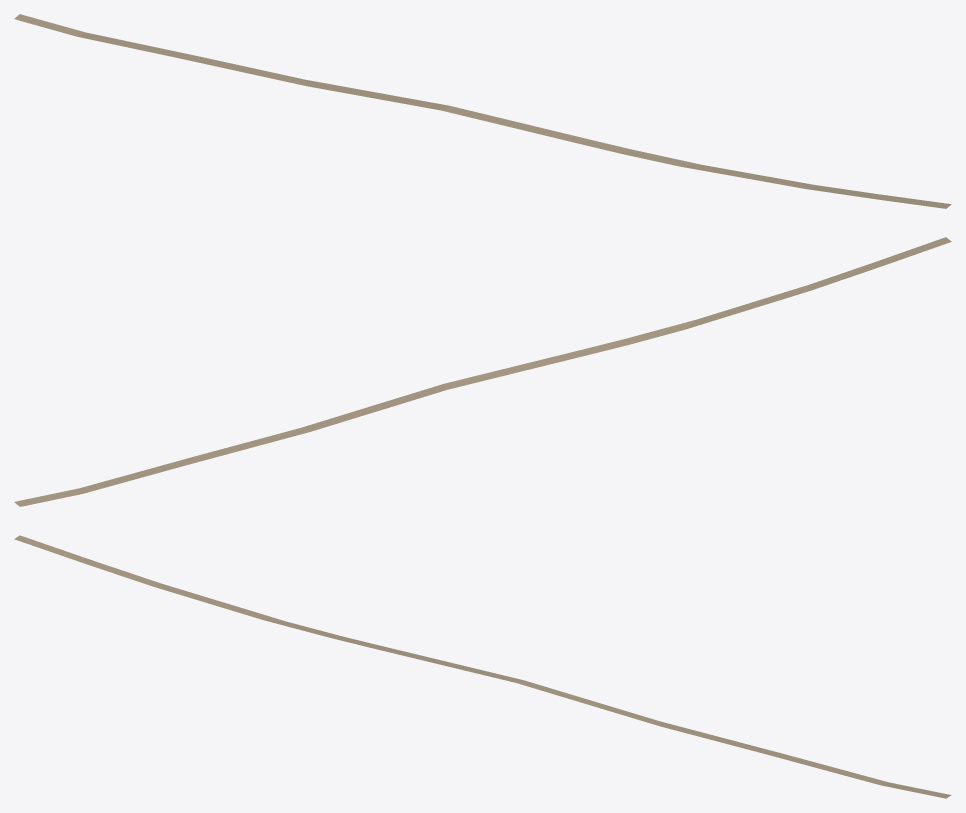
The model's file is farm_-6_5_track.glb.
The picture shows the model from 3 angles, top to bottom: view 1: azimuth 90°, elevation 25°; view 2: azimuth 150°, elevation 25°; view 3: azimuth 270°, elevation 25°; orthographic projection.
Parts seen in each view (by area): view 1: geometry_0; view 2: geometry_0; view 3: geometry_0.
Boxes of the visible parts, left/top/right/bottom form: geometry_0: left=14, top=14, right=951, bottom=208; geometry_0: left=14, top=237, right=951, bottom=506; geometry_0: left=14, top=535, right=951, bottom=798.
Bounding box in the file's own units: 152 × 11.67 × 262.
